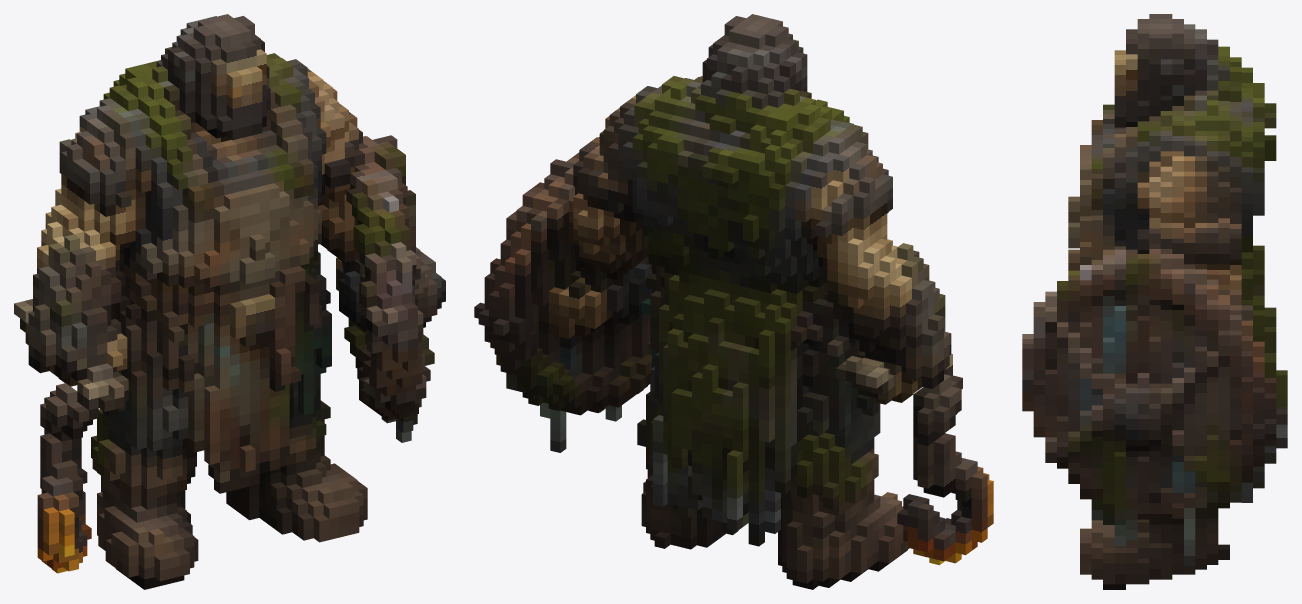
File: u_hale.glb
3 views of the same model, side by side, from view 1: azimuth 30°, elevation 25°; view 2: azimuth 150°, elevation 25°; view 3: azimuth 270°, elevation 25° (orthographic). The views are drawn at different scales.
Visible parts, largest first — view 1: hale_body; view 2: hale_body; view 3: hale_body.
Part boxes in pixels (left/top/right/bottom): hale_body: left=14, top=14, right=445, bottom=589; hale_body: left=474, top=14, right=993, bottom=589; hale_body: left=1022, top=14, right=1287, bottom=589.
Size of the model in its own units: 1.23 by 1.4 by 0.6589.
Materials: 1 (1 with a texture image).
